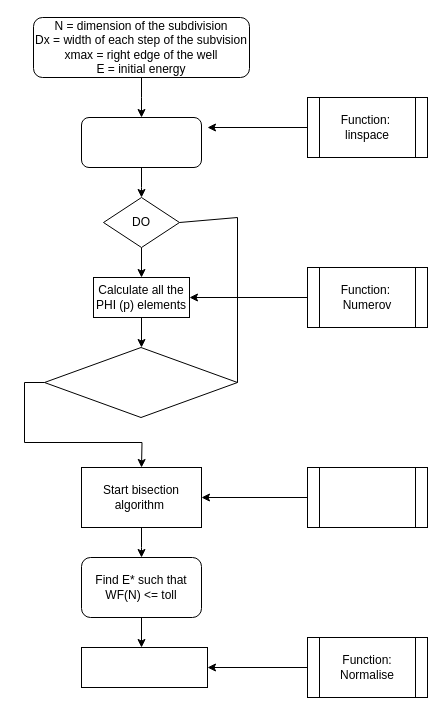
This 445x715 diagram has some shape labels left out. Each missing label, with the centre of its shape:
create WF vector WF(0) = 0 WF(1) = 1: (x=141, y=142)
Function: bisection: (x=367, y=497)
If p(N)_old*p(N)_new < 0: (x=141, y=382)
Normalize WF: (x=144, y=667)
